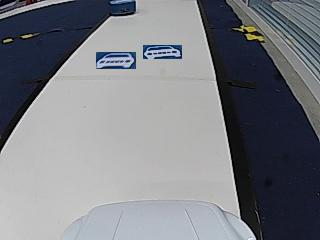prop: (109, 1, 136, 16)
